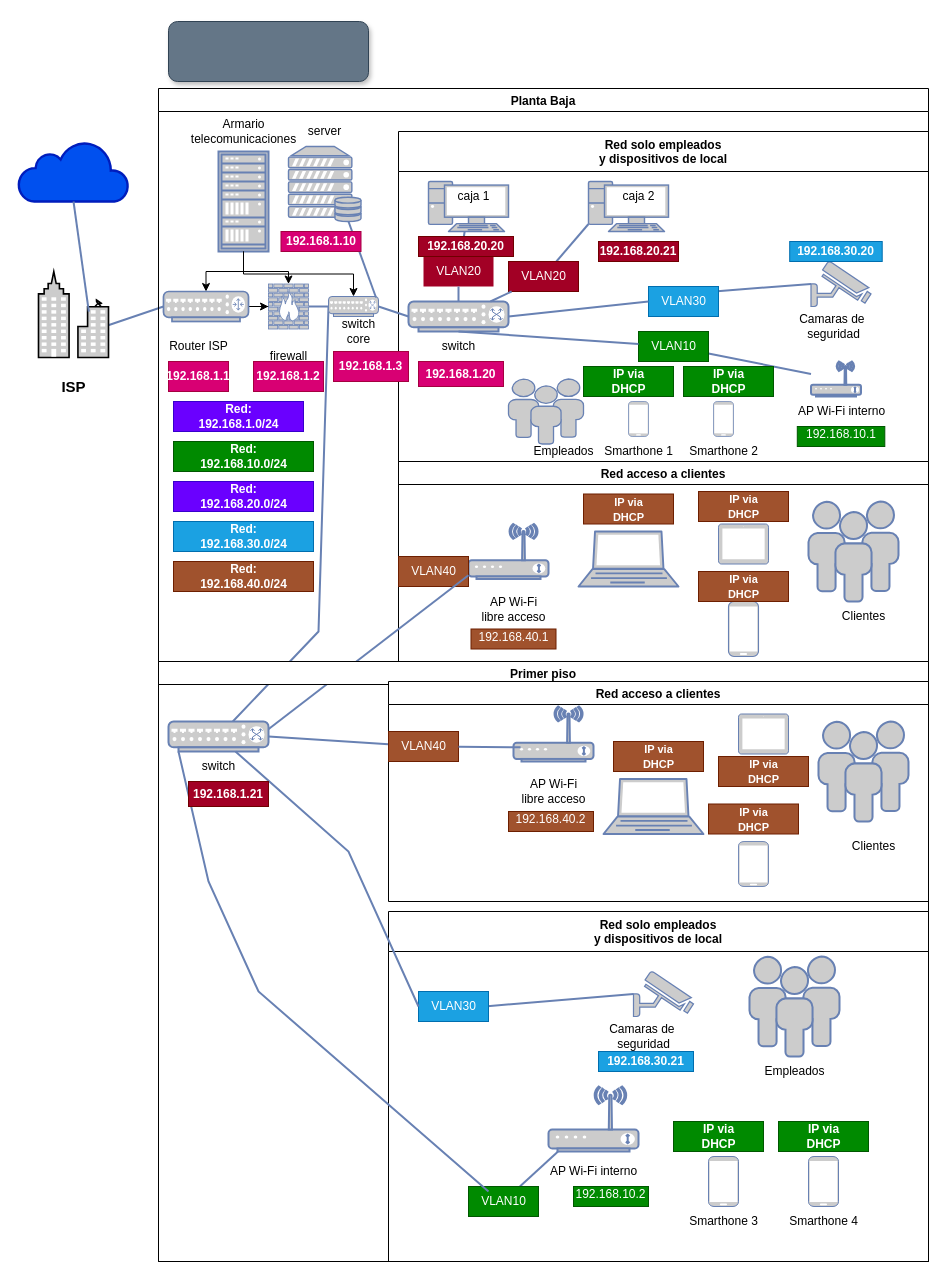
Image size: 946x1279. Some labels were removed from this diagram. The shapes that lost their labels are listed below. From the top down, each one's centre as x and y in pixels, then its label:
point 269,52: DNS: www.elsaborescondido.com.ar IP pública: 203.0.113.150
point 73,171: Internet
